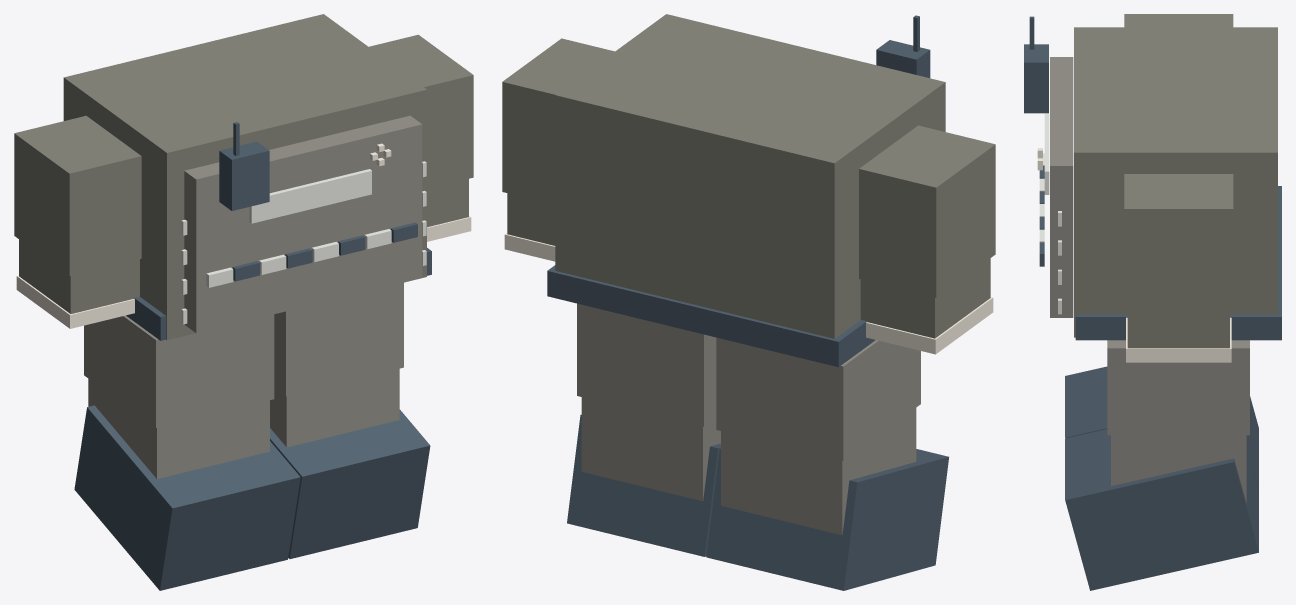
The model's file is police-sand.glb.
The picture shows the model from 3 angles, left to right: view 1: azimuth 30°, elevation 25°; view 2: azimuth 150°, elevation 25°; view 3: azimuth 270°, elevation 25°; orthographic projection. The views are drawn at different scales.
Visible parts, largest first — view 1: jacket, duty-vest, shoe-Right, upper-sleeve-Right, trouser-Right, shoe-Left, trouser-Left, lower-trouser-Right, upper-sleeve-Left, lower-trouser-Left, lower-sleeve-Right, vest-label (+5 smaller); view 2: jacket, upper-sleeve-Right, shoe-Right, trouser-Right, trouser-Left, lower-trouser-Right, lower-trouser-Left, duty-belt, upper-sleeve-Left, shoe-Left, lower-sleeve-Right, cuff-Right (+3 smaller); view 3: jacket, shoe-Left, upper-sleeve-Left, trouser-Left, duty-vest, lower-trouser-Left, lower-sleeve-Left, shoe-Right, duty-belt, radio, cuff-Left, upper-sleeve-Right (+1 smaller).
Boxes of the visible parts, bbox=[...] form: jacket: bbox=[63, 14, 426, 340]; duty-vest: bbox=[184, 115, 422, 333]; shoe-Right: bbox=[74, 405, 300, 590]; upper-sleeve-Right: bbox=[14, 115, 141, 276]; trouser-Right: bbox=[84, 314, 274, 427]; shoe-Left: bbox=[270, 409, 430, 558]; trouser-Left: bbox=[274, 282, 403, 396]; lower-trouser-Right: bbox=[88, 379, 269, 478]; upper-sleeve-Left: bbox=[369, 34, 473, 188]; lower-trouser-Left: bbox=[270, 368, 399, 447]; lower-sleeve-Right: bbox=[19, 239, 139, 313]; vest-label: bbox=[249, 169, 371, 223]; jacket: bbox=[555, 14, 945, 338]; upper-sleeve-Right: bbox=[859, 125, 995, 297]; shoe-Right: bbox=[706, 448, 948, 590]; trouser-Right: bbox=[716, 337, 920, 460]; trouser-Left: bbox=[577, 303, 716, 426]; lower-trouser-Right: bbox=[721, 408, 916, 534]; lower-trouser-Left: bbox=[581, 397, 720, 501]; duty-belt: bbox=[547, 265, 875, 367]; upper-sleeve-Left: bbox=[502, 38, 614, 204]; shoe-Left: bbox=[567, 414, 720, 556]; lower-sleeve-Right: bbox=[860, 258, 990, 338]; cuff-Right: bbox=[866, 297, 993, 354]; jacket: bbox=[1074, 27, 1277, 337]; shoe-Left: bbox=[1065, 429, 1258, 590]; upper-sleeve-Left: bbox=[1124, 174, 1233, 309]; trouser-Left: bbox=[1107, 340, 1249, 435]; duty-vest: bbox=[1050, 57, 1073, 317]; lower-trouser-Left: bbox=[1111, 435, 1246, 503]; lower-sleeve-Left: bbox=[1127, 310, 1229, 348]; shoe-Right: bbox=[1065, 366, 1258, 489]; duty-belt: bbox=[1075, 186, 1281, 340]; radio: bbox=[1024, 44, 1048, 113]; cuff-Left: bbox=[1126, 317, 1231, 362]; upper-sleeve-Right: bbox=[1124, 14, 1233, 27].
Size of the model in its own units: 1.07 by 1.21 by 0.6.
